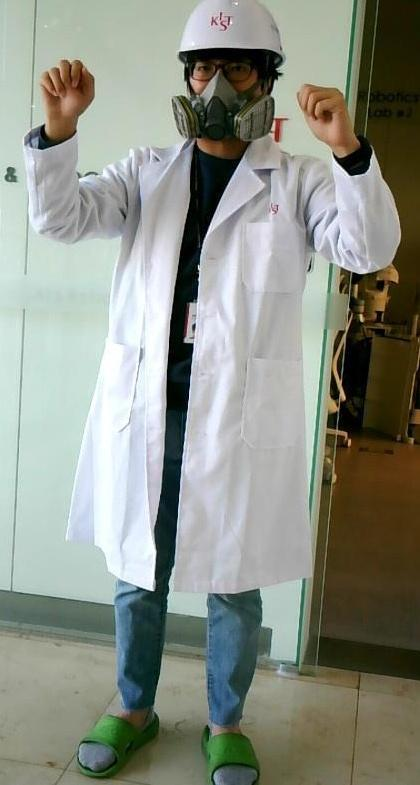lab_coat: (50, 157, 377, 564)
